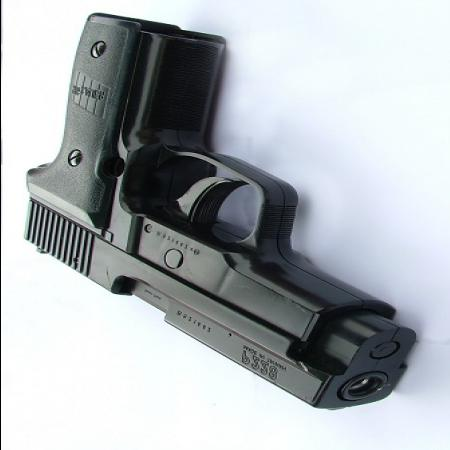Pistol: (21, 9, 408, 413)
